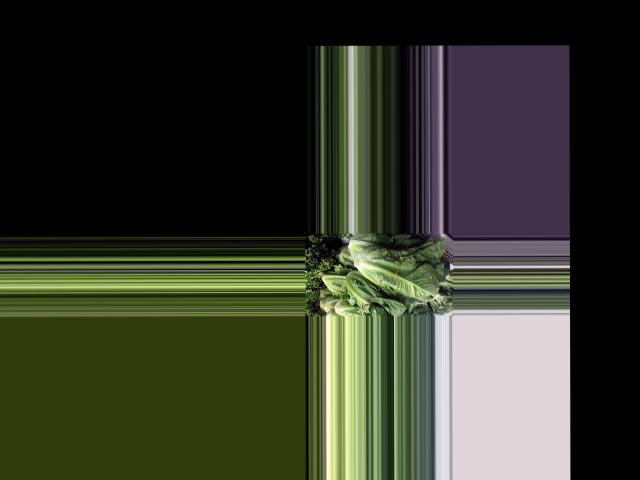lettuce: (342, 272, 408, 313)
